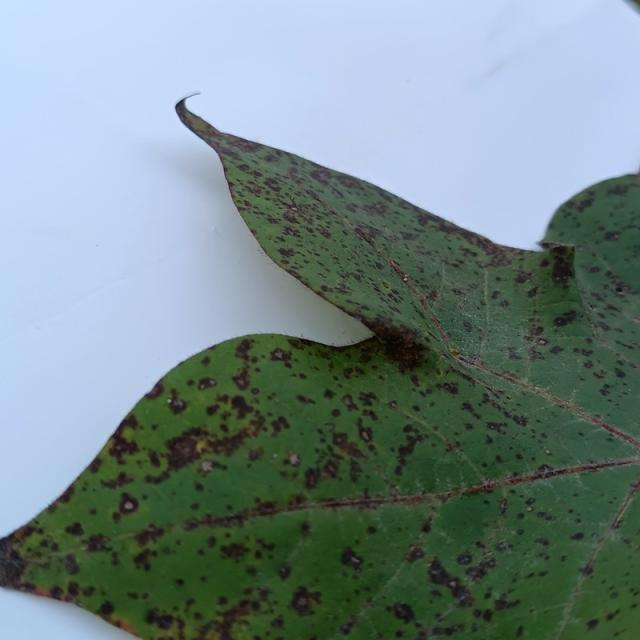Bacterial_Blight: (102, 421, 148, 469), (213, 596, 268, 632), (304, 452, 352, 489), (580, 600, 631, 633), (393, 423, 428, 465), (330, 429, 368, 462), (0, 543, 26, 586), (289, 584, 322, 617), (549, 248, 576, 283), (168, 435, 200, 464), (132, 523, 165, 548), (427, 557, 455, 586), (431, 377, 467, 398), (145, 608, 177, 631), (217, 540, 252, 561), (308, 168, 339, 191), (229, 393, 254, 418), (132, 546, 157, 571), (117, 491, 140, 516), (166, 388, 187, 415), (339, 546, 363, 569), (551, 309, 578, 329), (391, 602, 415, 623), (492, 593, 517, 613), (231, 368, 252, 391), (292, 390, 320, 407), (270, 414, 290, 434), (143, 381, 164, 400), (464, 564, 487, 581), (281, 208, 304, 225), (405, 544, 425, 563), (234, 338, 254, 357), (304, 467, 321, 489), (64, 520, 85, 537), (63, 554, 80, 575), (420, 512, 436, 534), (459, 400, 479, 417), (269, 347, 290, 363), (357, 390, 378, 406), (340, 393, 358, 411), (97, 600, 115, 617), (415, 212, 434, 228), (485, 420, 507, 433), (197, 376, 217, 390), (368, 201, 387, 215), (277, 563, 292, 580), (581, 559, 596, 576), (614, 283, 635, 295), (248, 446, 263, 462), (340, 619, 355, 635), (277, 246, 296, 258), (333, 432, 348, 447), (514, 270, 530, 284), (354, 226, 370, 240), (511, 414, 528, 427), (496, 540, 513, 553), (358, 427, 372, 442), (536, 510, 555, 521), (456, 553, 472, 566), (536, 463, 553, 475), (334, 284, 352, 295), (604, 230, 621, 241), (591, 369, 608, 380), (586, 618, 599, 632), (300, 520, 312, 535), (236, 163, 253, 173), (549, 344, 564, 355), (613, 367, 627, 378), (499, 497, 508, 514), (569, 531, 585, 540), (428, 288, 440, 300), (323, 388, 336, 399), (515, 624, 524, 638), (490, 289, 502, 299), (366, 525, 377, 535), (525, 497, 536, 506), (389, 400, 397, 409), (505, 393, 512, 400), (526, 506, 533, 512)
Cotton: (0, 101, 639, 639)
